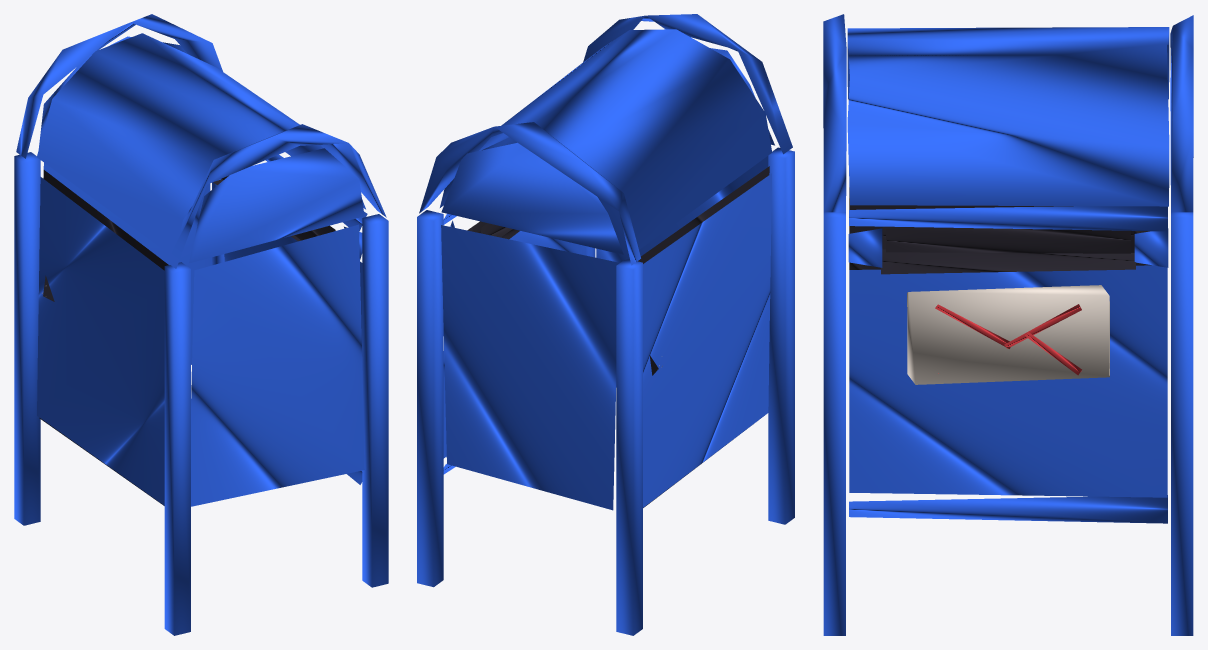
3 views of the same model, side by side, from view 1: azimuth 30°, elevation 25°; view 2: azimuth 150°, elevation 25°; view 3: azimuth 270°, elevation 25° (orthographic). The views are drawn at different scales.
Bounding box in the file's own units: 0.738 × 1.54 × 0.9367.
